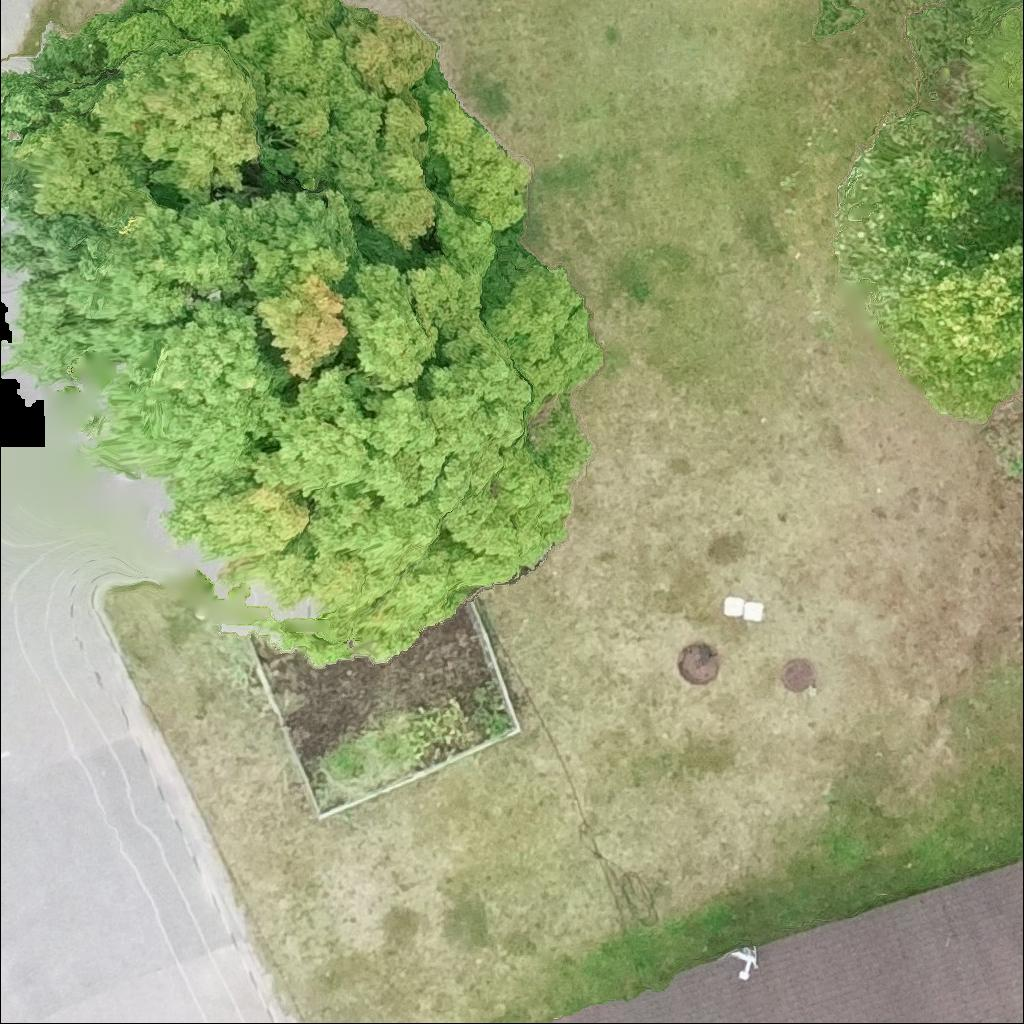crown: (0, 0, 593, 650), (836, 107, 1023, 285), (868, 236, 1023, 424), (970, 0, 1023, 152), (1016, 277, 1023, 326)
